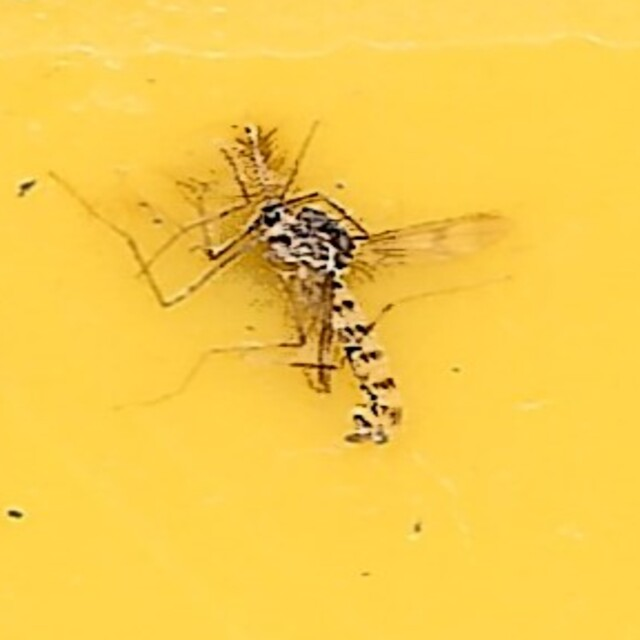Nematocera: (222, 184, 418, 456)
